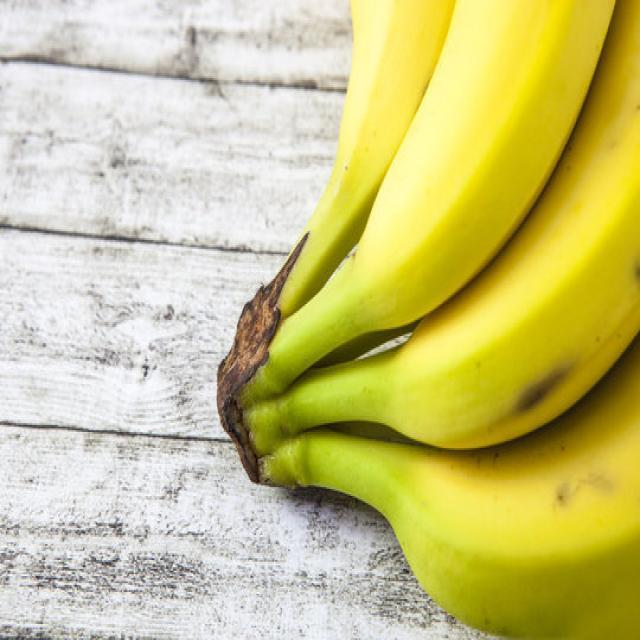Banana: (217, 0, 640, 640)
